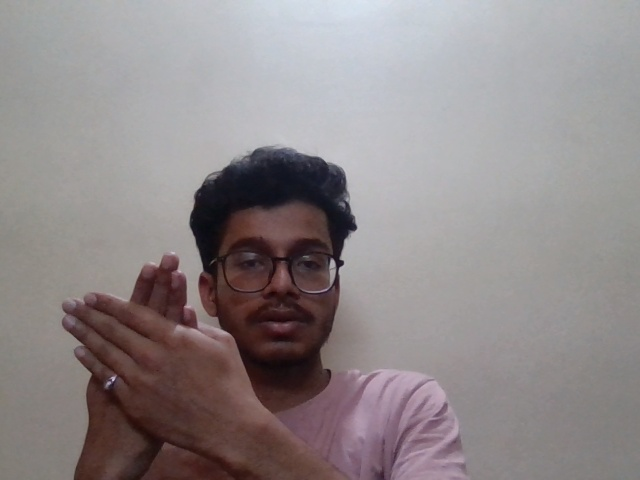what: (57, 249, 266, 433)
